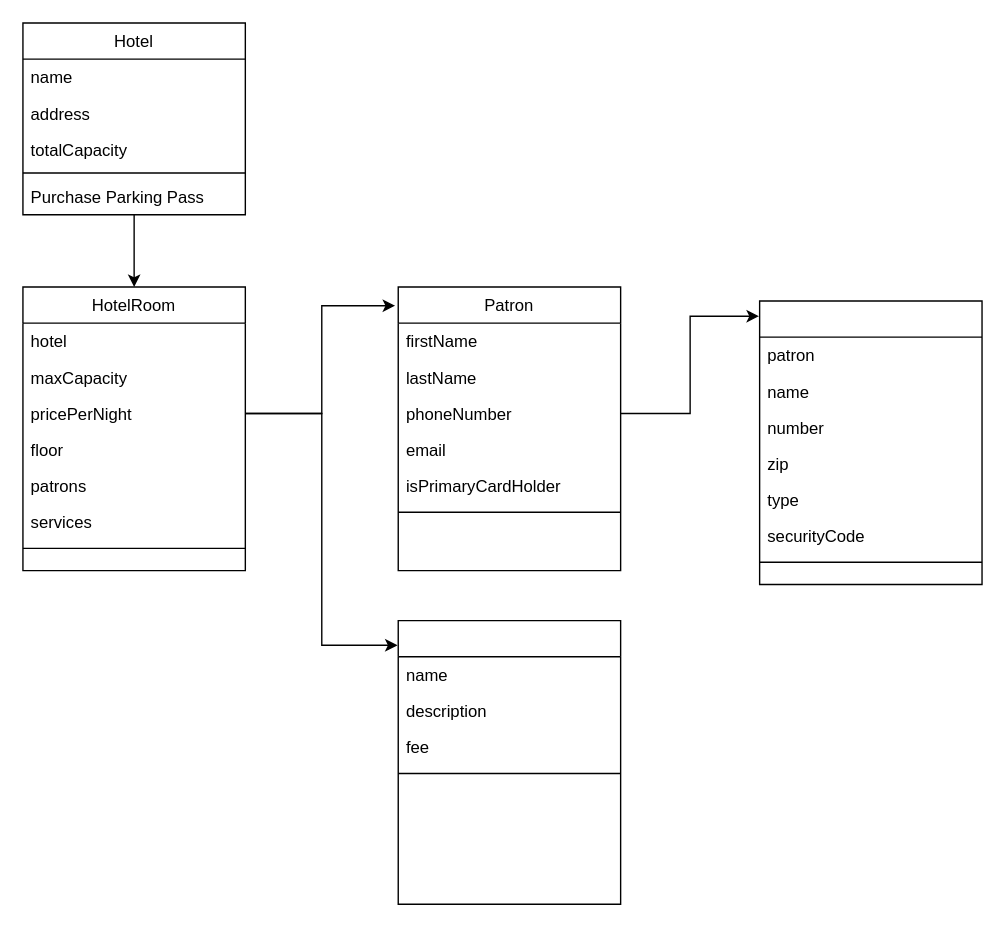
Image size: 1005x927. Some labels were removed from this diagram. Each missing label, with the box of its shape:
CreditCard: (758, 300, 982, 584)
Service: (397, 619, 621, 904)
